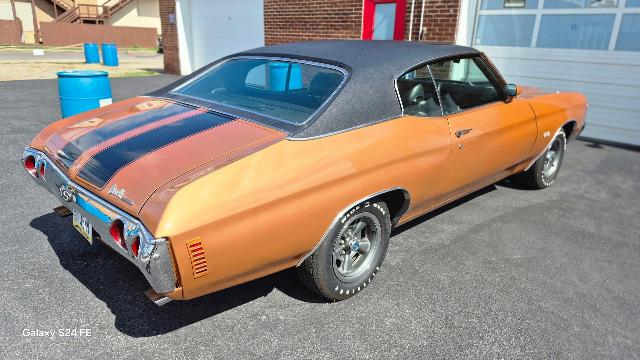chevelle-1972: (22, 40, 589, 303)
